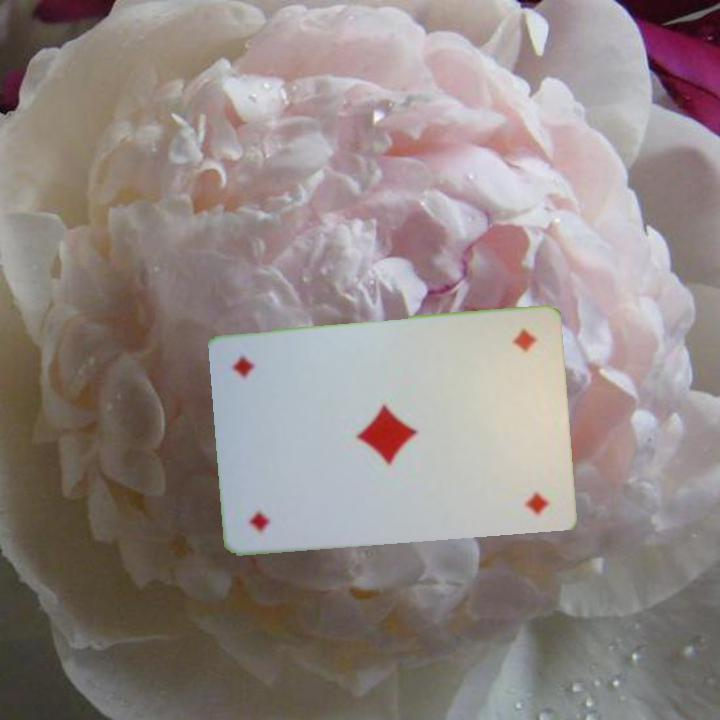d_a.png: (232, 433, 325, 539), (460, 321, 553, 427)
